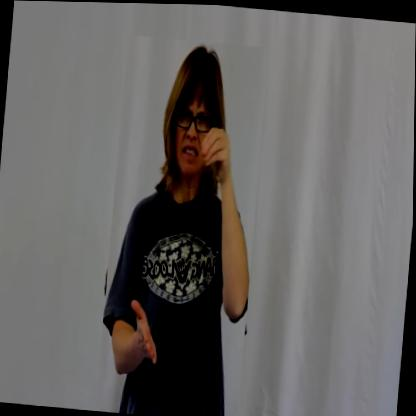Expensive: (97, 34, 270, 416)
